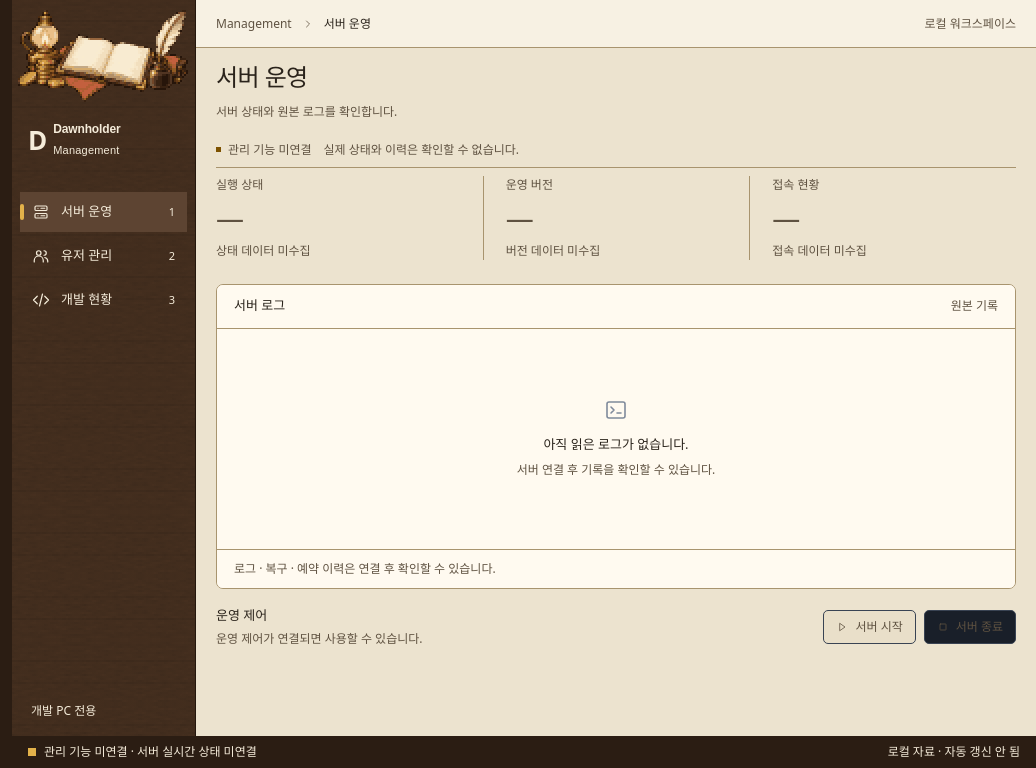
Test: full-page detail › keeps the area, every linked system and record and every 원문 entry in the system detail
Click the button "3 개발 현황": (104, 300) [20, 280, 187, 320]
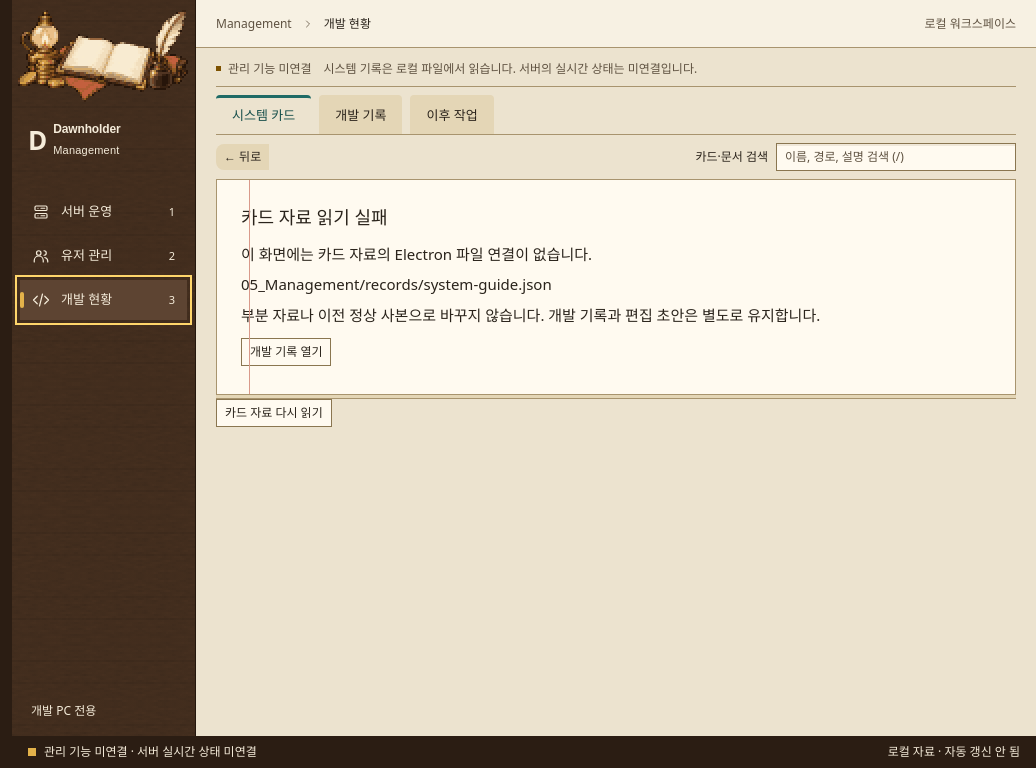
Click the button "개발 기록": (361, 114) [319, 95, 402, 134]
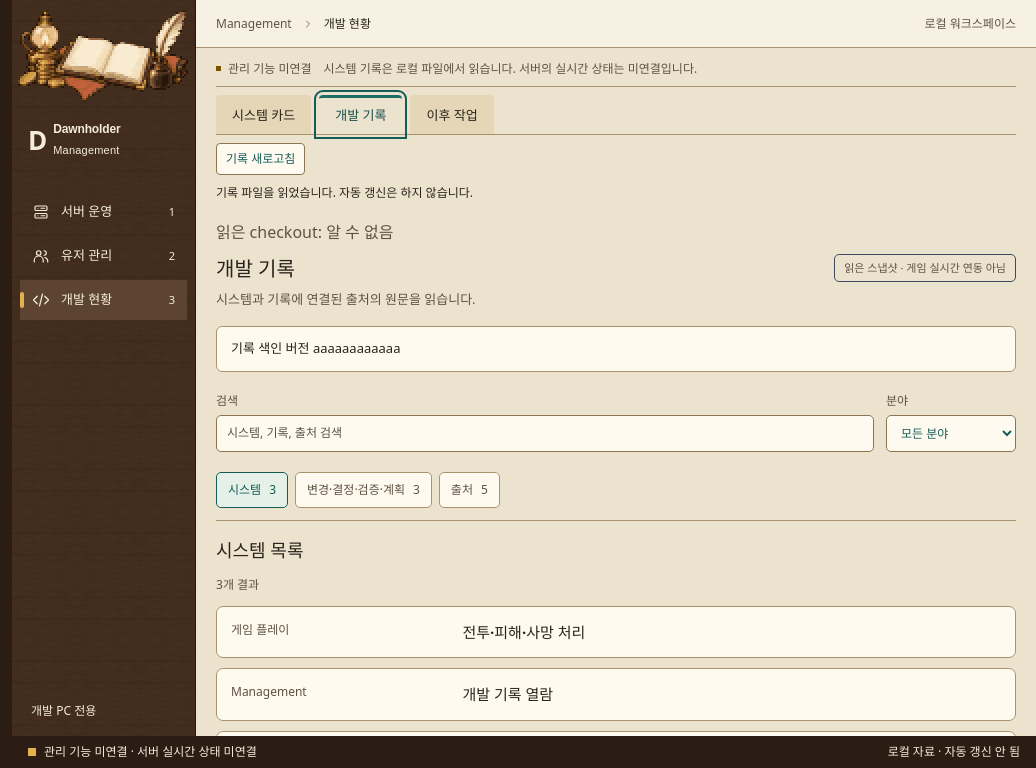
Check: the search field labelled "검색" is shown, box [216, 414, 874, 452]
Click the button "Management 개발 기록 열람": (269, 692) [216, 668, 1016, 720]
(page scrolled)
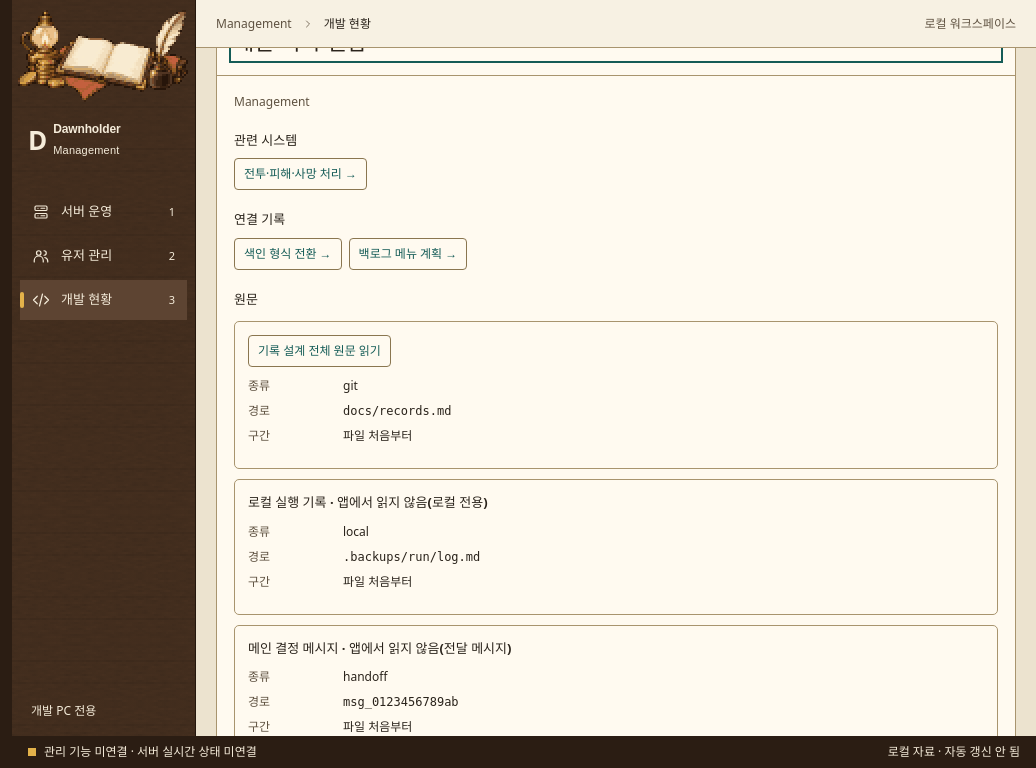
Check: the text "Management" below "개발 기록 열람" is shown, box [234, 92, 310, 110]
Check: the button "기록 설계 전체 원문 읽기" is shown, box [248, 335, 391, 367]
Check: the element "개발 기록 열람" shows "로컬 실행 기록 · 앱에서 읽지 않음"
